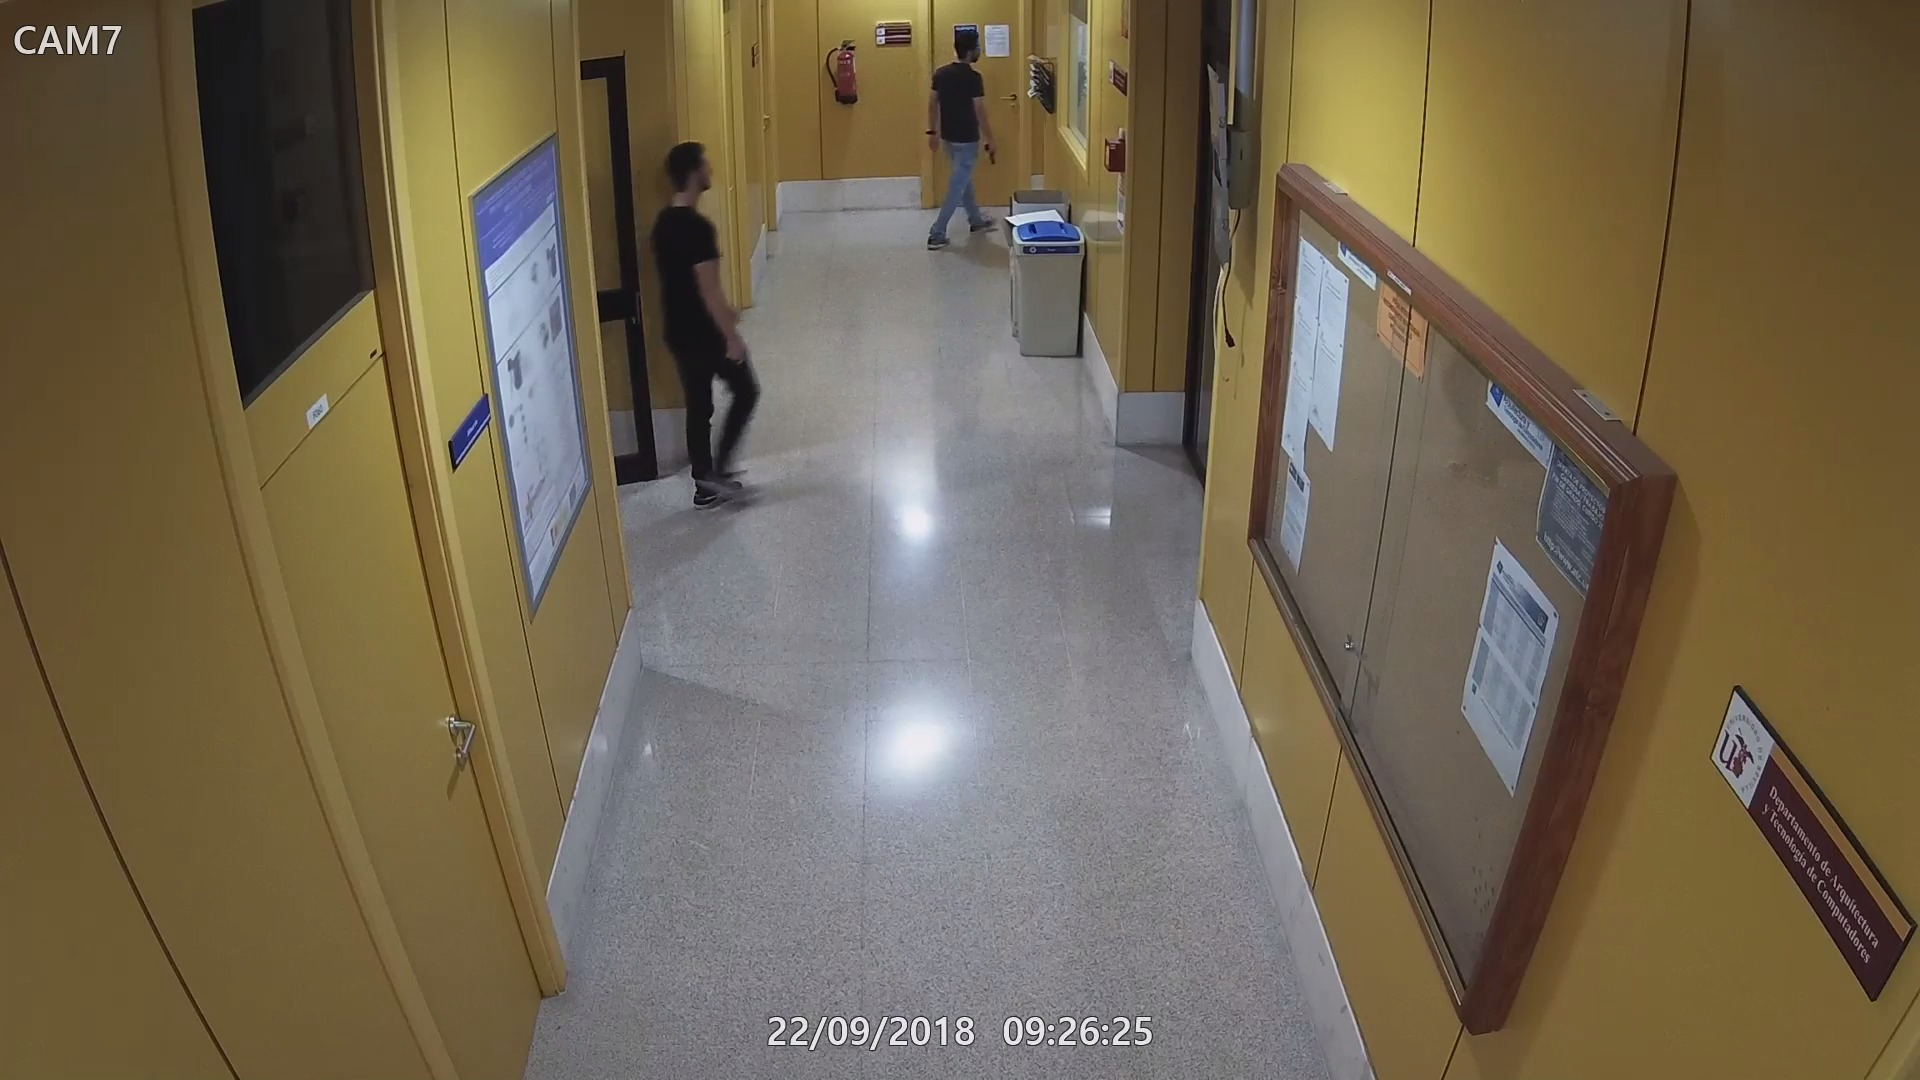Handgun: (724, 334, 753, 385), (977, 140, 1004, 167)
